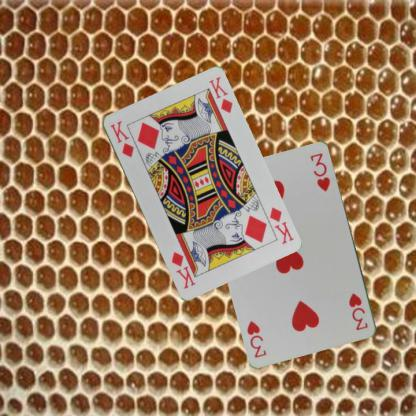3h: (346, 290, 370, 332)
Kd: (266, 204, 296, 246), (108, 118, 135, 159)
